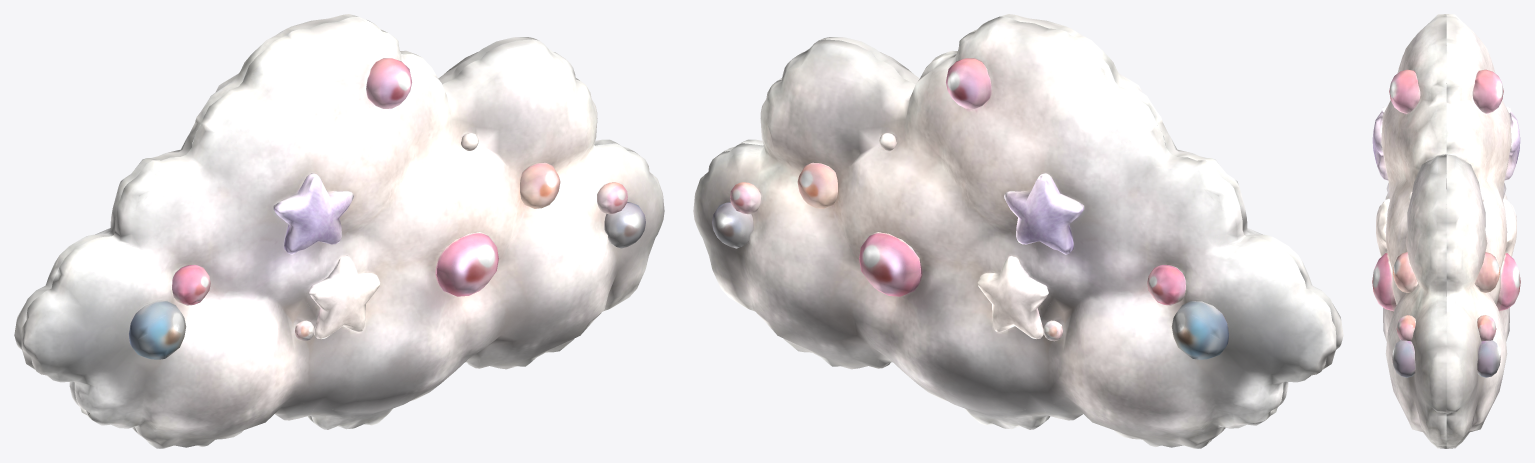
Rendered from snow360-sky-cloud-4.glb.
3 views of the same model, side by side, from view 1: azimuth 30°, elevation 25°; view 2: azimuth 150°, elevation 25°; view 3: azimuth 270°, elevation 25° (orthographic). The views are drawn at different scales.
Visible parts, largest first — view 1: Cloud4; view 2: Cloud4; view 3: Cloud4.
Boxes of the visible parts, left/top/right/bottom form: Cloud4: left=14, top=14, right=664, bottom=448; Cloud4: left=693, top=14, right=1343, bottom=448; Cloud4: left=1372, top=14, right=1520, bottom=448.
Size of the model in its own units: 0.9556 by 0.5845 by 0.2255.
Materials: 1 (1 with a texture image).
